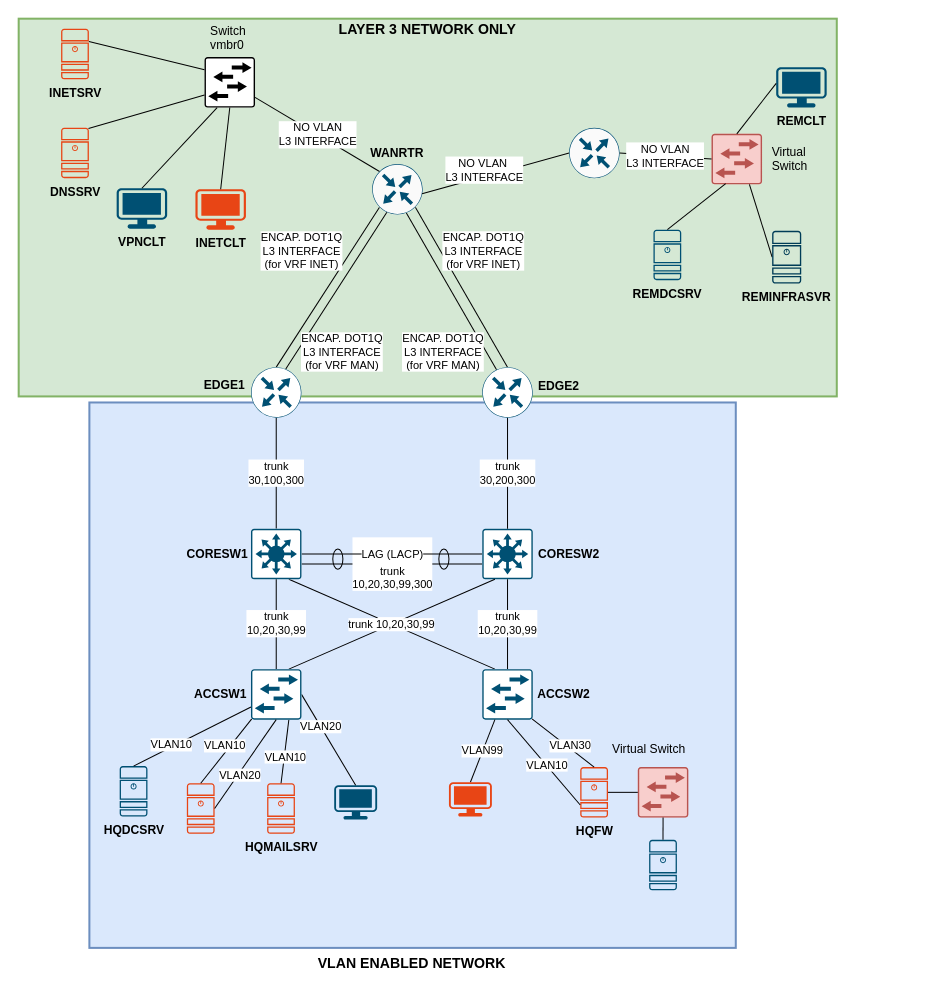
Some shapes in this 938 by 989 pixel diagram are drawn without their labels. Each missing label, with the centre of its shape:
"HQCLT" goes at (355,802).
"HQINFRASRV" goes at (200,808).
"HQWEBSRV" goes at (662,864).
"MGMTCLT" goes at (469,799).
"REMFW" goes at (594,152).
